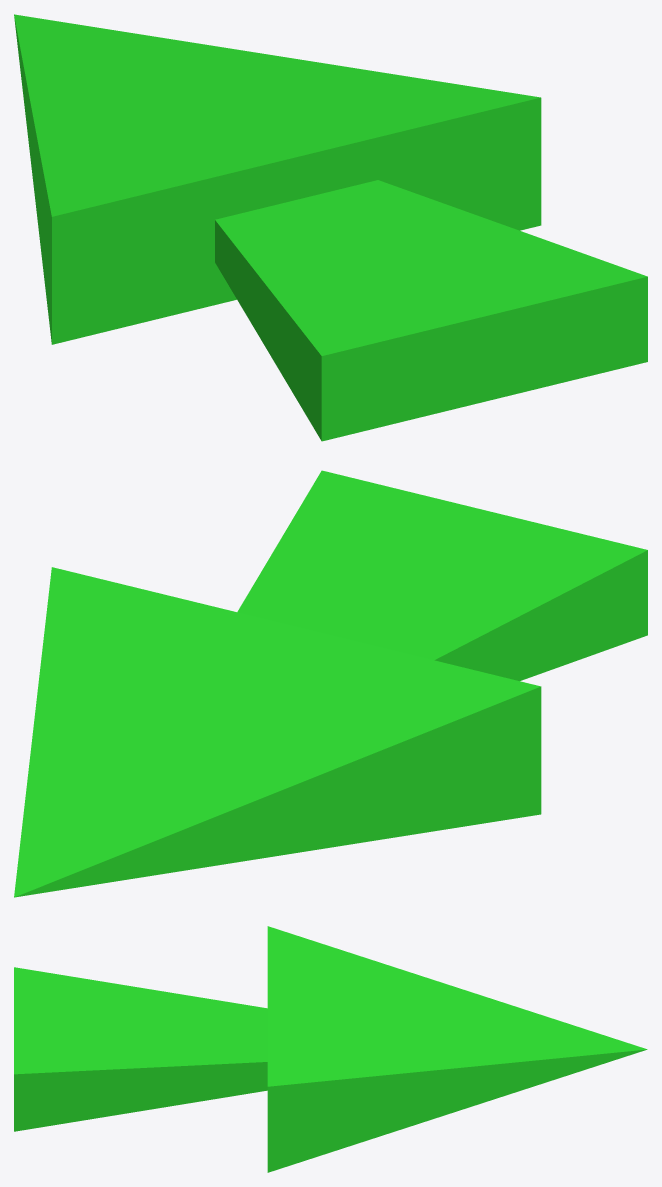
The model's file is arrow.fbx.
3 renders of one model, top to bottom at view 1: azimuth 30°, elevation 25°; view 2: azimuth 150°, elevation 25°; view 3: azimuth 270°, elevation 25°, orthographic. The views are drawn at different scales.
Visible parts, largest first — view 1: Cube; view 2: Cube; view 3: Cube.
Boxes of the visible parts, x1=… form: Cube: x1=14, y1=14, x2=647, y2=441; Cube: x1=14, y1=470, x2=647, y2=897; Cube: x1=14, y1=926, x2=647, y2=1172.
Bounding box in the file's own units: 300 × 75 × 500.
